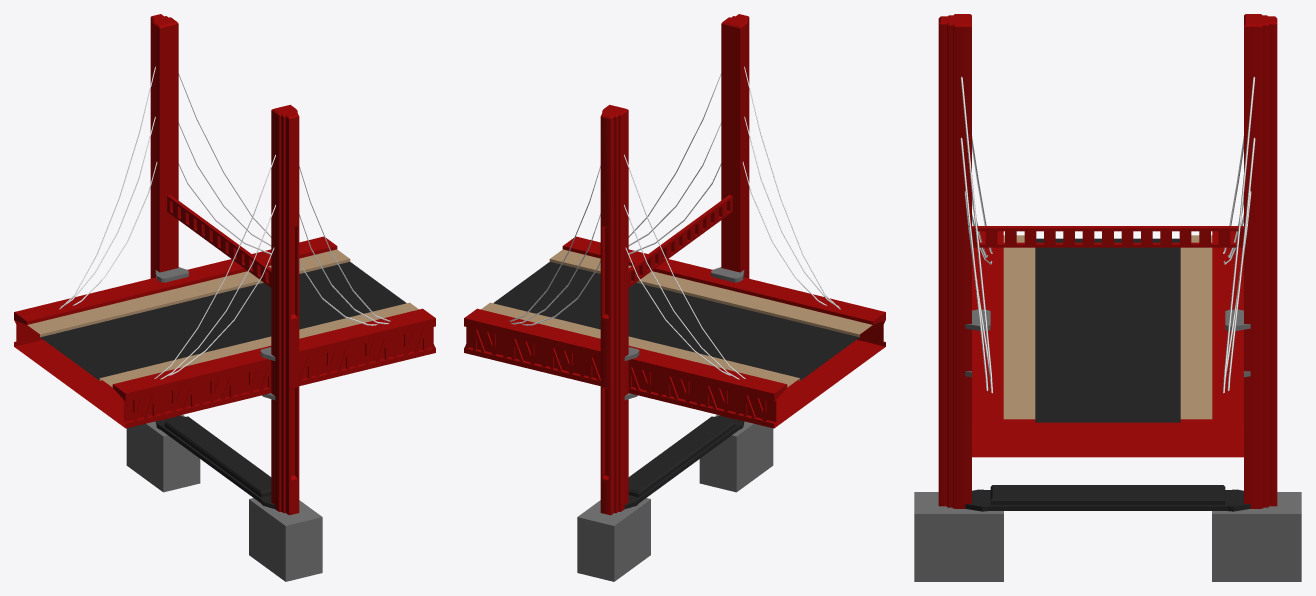
Rendered from Bridge.fbx.
3 views of the same model, side by side, from view 1: azimuth 30°, elevation 25°; view 2: azimuth 150°, elevation 25°; view 3: azimuth 270°, elevation 25° (orthographic). The views are drawn at different scales.
Visible parts, largest first — view 1: Plane022; view 2: Plane022; view 3: Plane022.
Part boxes in pixels (x1,y1,x2,y2): Plane022: (14, 14, 435, 581); Plane022: (464, 14, 885, 581); Plane022: (914, 14, 1301, 581).
Bounding box in the file's own units: 2099 × 2935 × 1866.
